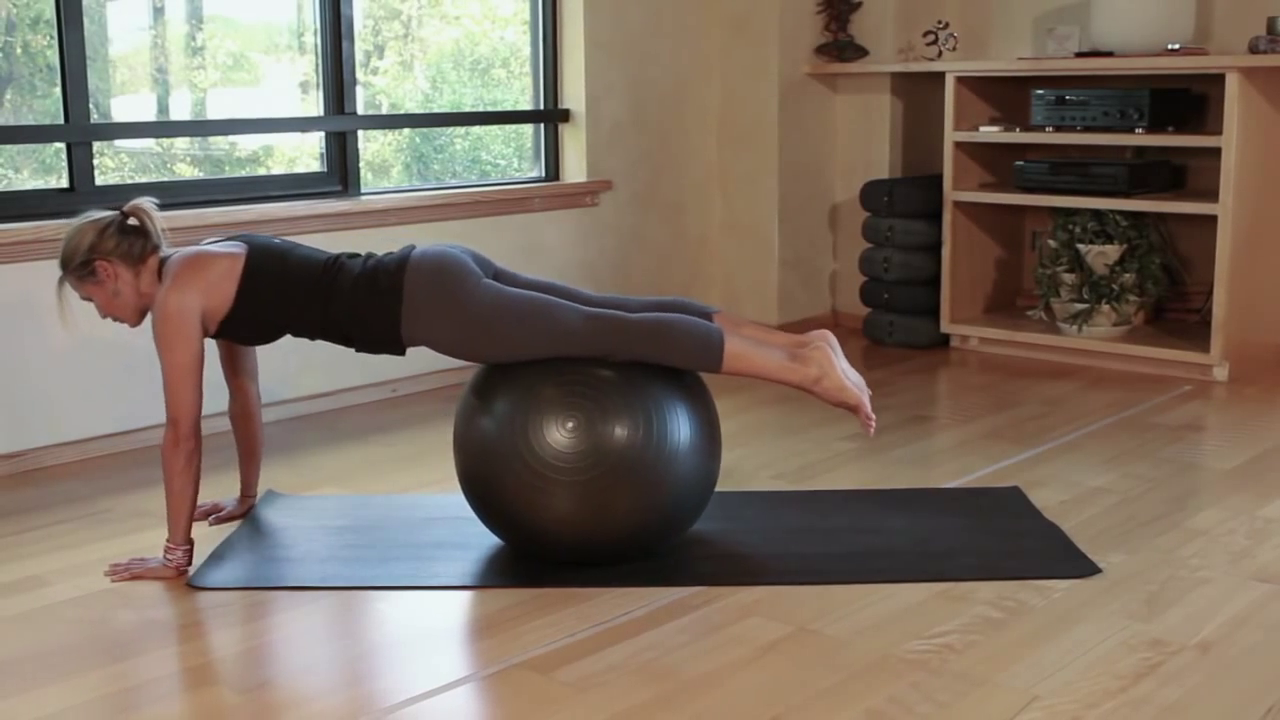yogaball: (443, 356, 730, 576)
